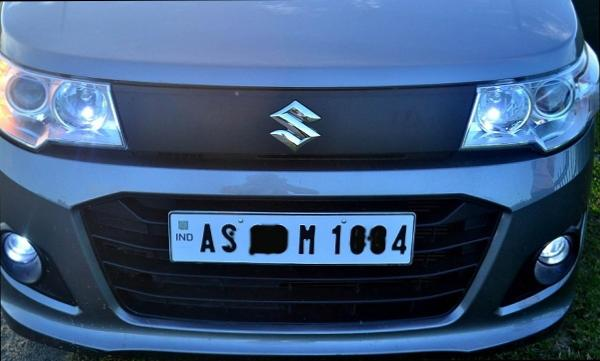plate: (162, 197, 431, 278)
